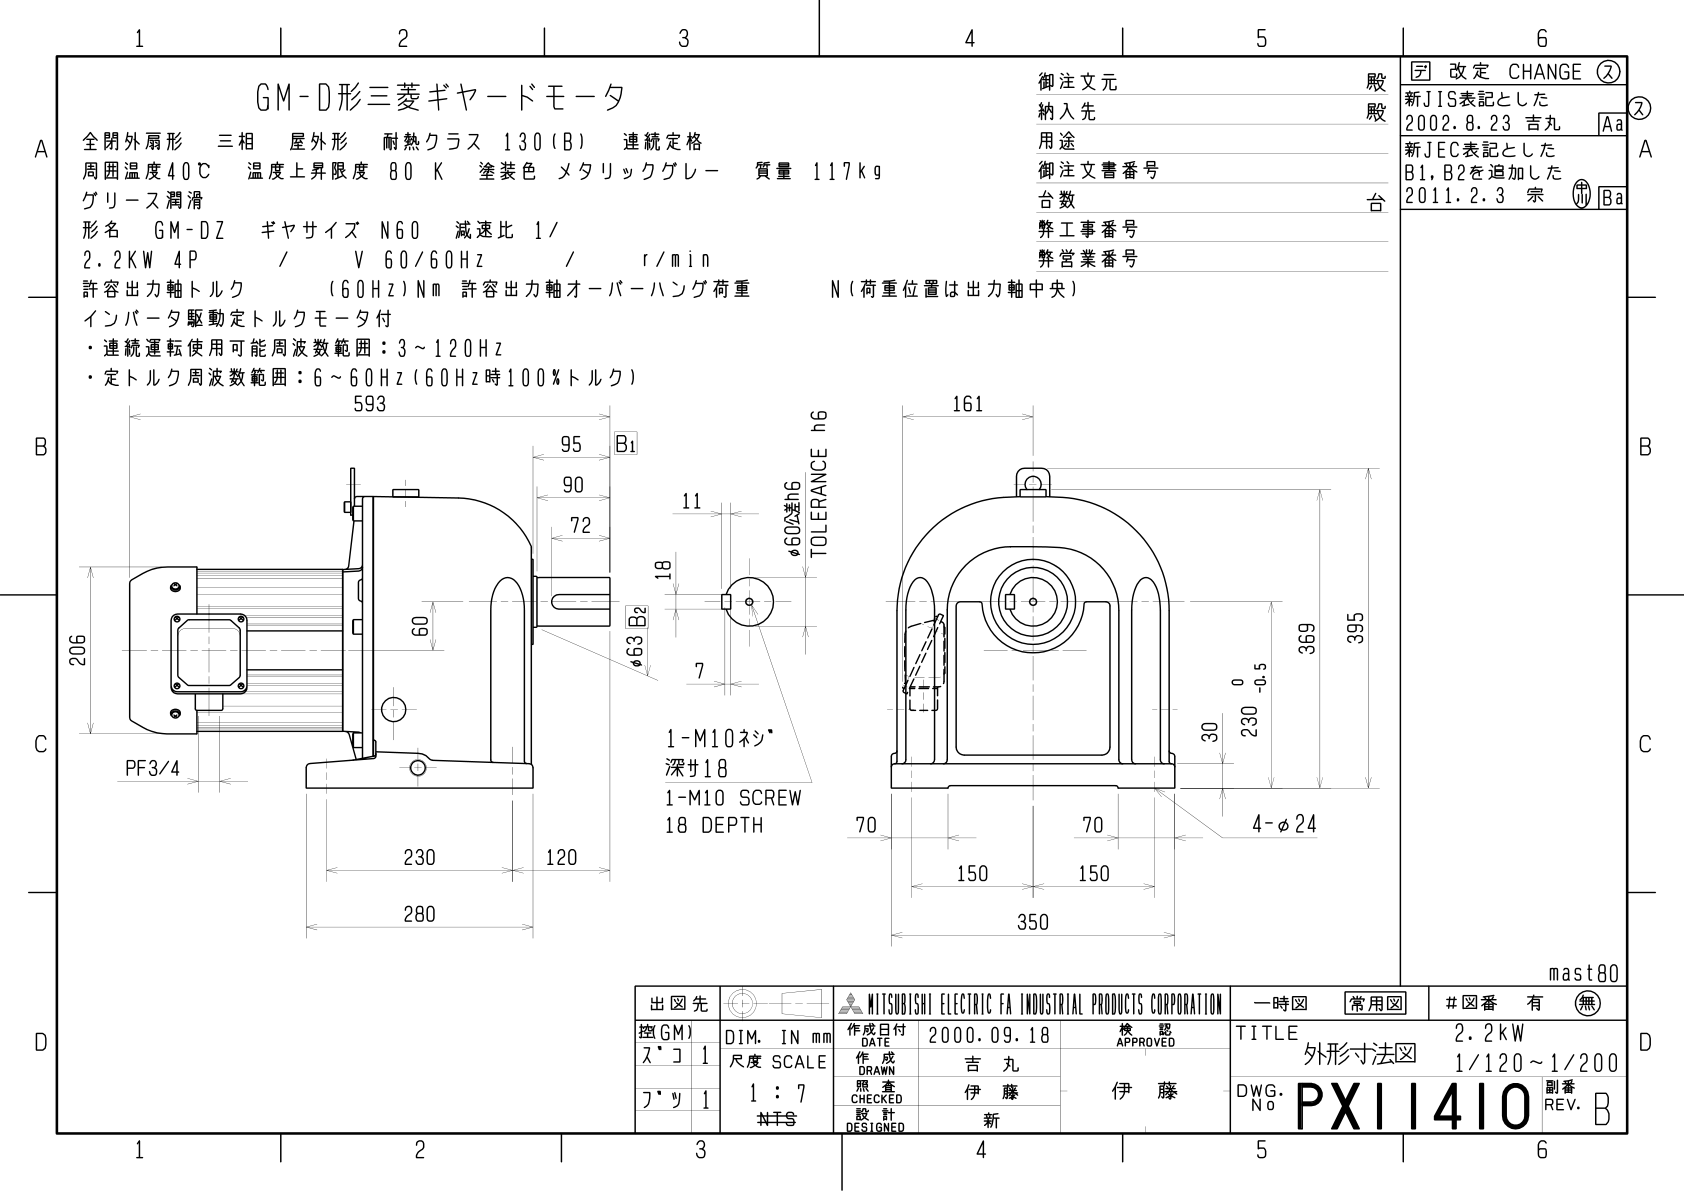GM_D_インバータ屋外_三相_脚: (5, 6, 1684, 1191)
